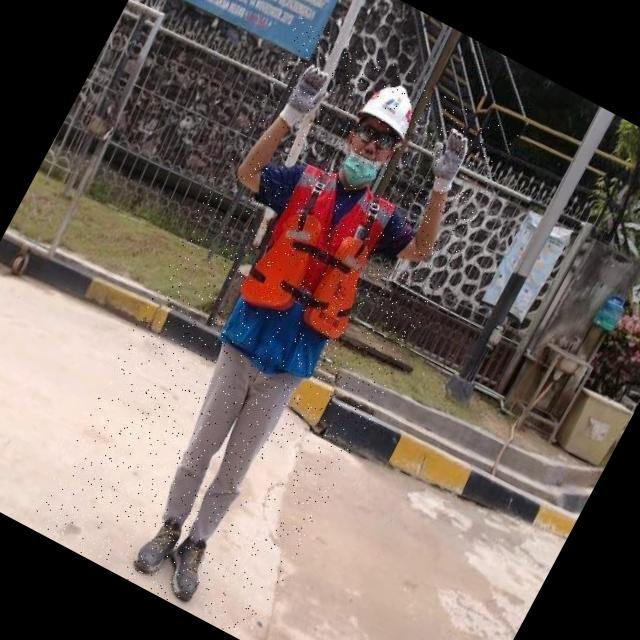hard_hat: (351, 70, 428, 144)
safety_vest: (214, 158, 408, 390)
vehicle: (28, 14, 522, 640)
work_boots: (149, 529, 224, 611), (128, 508, 186, 580)
